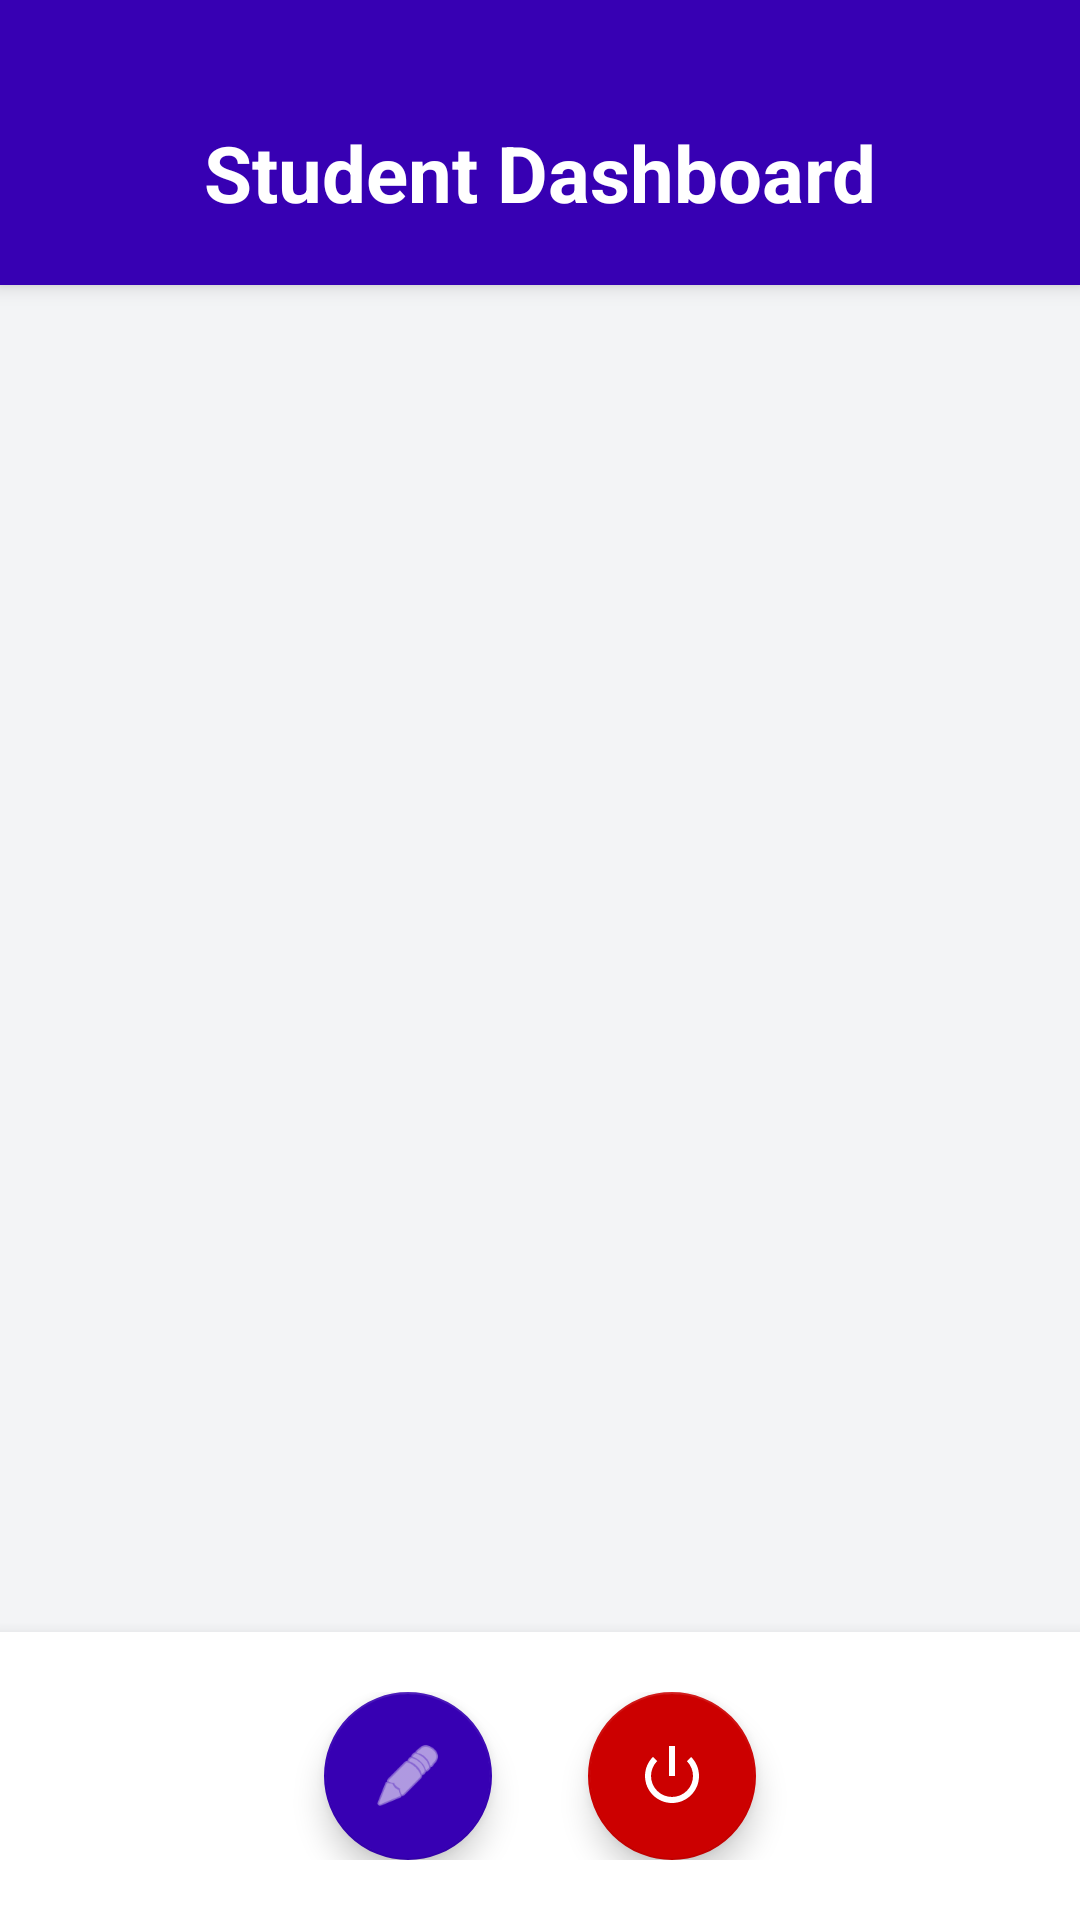

Icon bounding boxes for this 1080x1920 phone screenshot, format (x1, y1, x2, y2):
Update Info: (324, 1692, 492, 1860)
